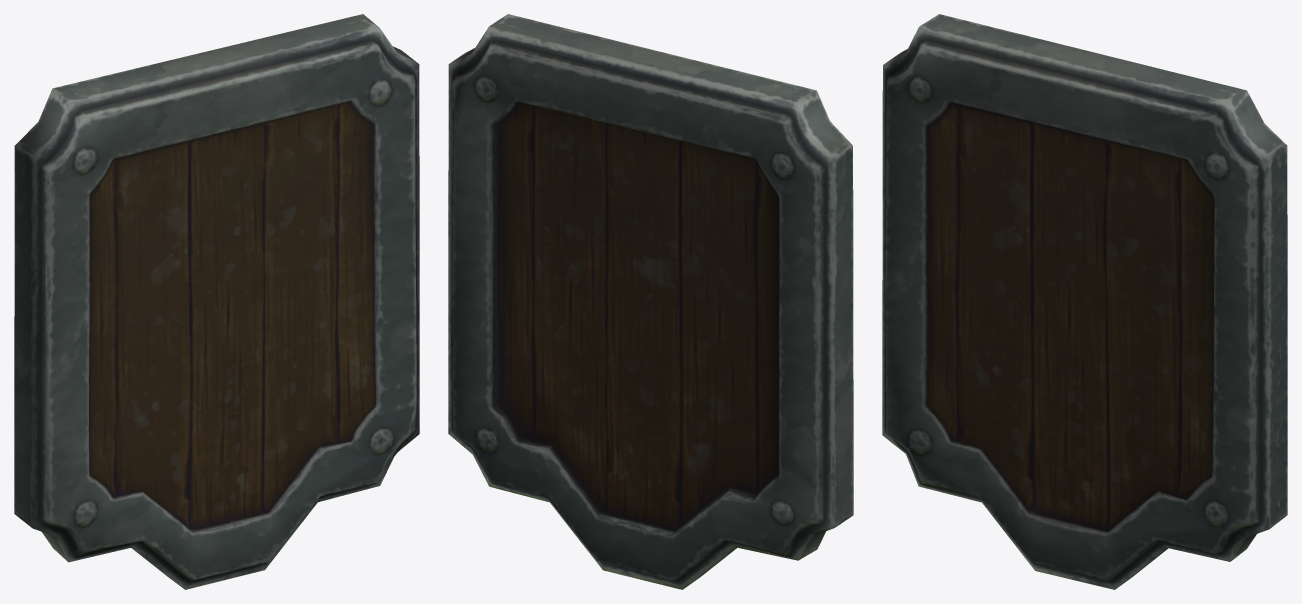
Rendered from S_MVillage_Signs_01_Broken_C.fbx.
3 renders of one model, left to right at view 1: azimuth 30°, elevation 25°; view 2: azimuth 150°, elevation 25°; view 3: azimuth 330°, elevation 25°, orthographic.
Parts seen in each view (by area): view 1: S_MVillage_Signs_01_Broken_C_LOD0; view 2: S_MVillage_Signs_01_Broken_C_LOD0; view 3: S_MVillage_Signs_01_Broken_C_LOD0.
Boxes of the visible parts, x1=… form: S_MVillage_Signs_01_Broken_C_LOD0: x1=14, y1=14, x2=419, y2=589; S_MVillage_Signs_01_Broken_C_LOD0: x1=448, y1=14, x2=853, y2=589; S_MVillage_Signs_01_Broken_C_LOD0: x1=882, y1=14, x2=1287, y2=589.
Size of what is drawn, in the model's own units: 106 by 135 by 16.47.
